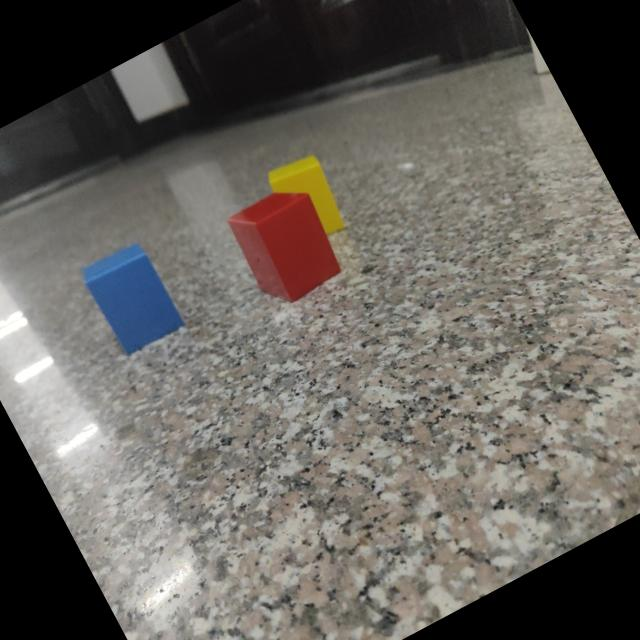blue: (82, 242, 184, 356)
red: (229, 192, 343, 303)
yellow: (268, 155, 346, 234)
